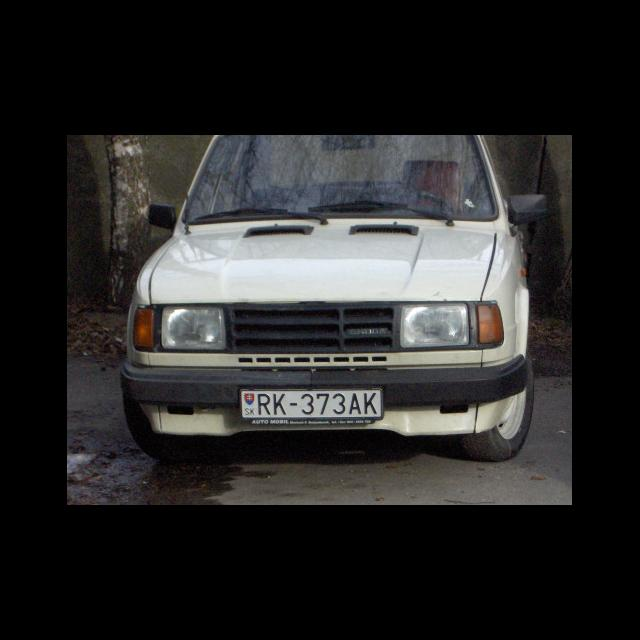Plate: (238, 386, 384, 422)
